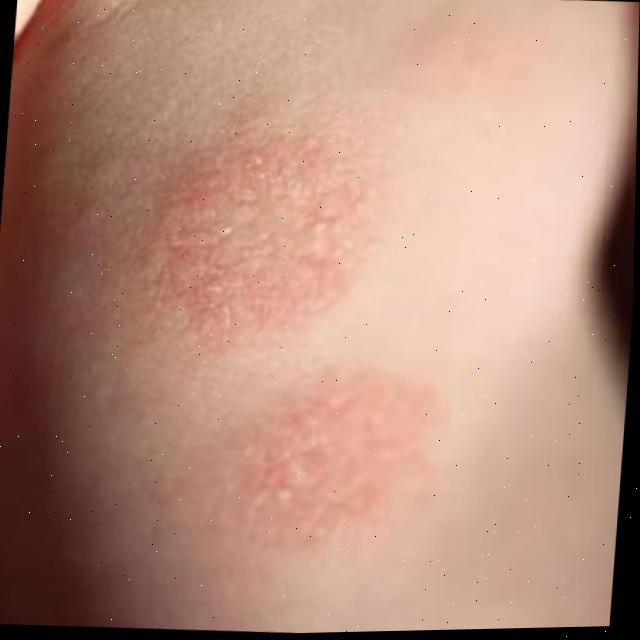Eczema: (135, 146, 355, 324), (271, 364, 436, 533)
